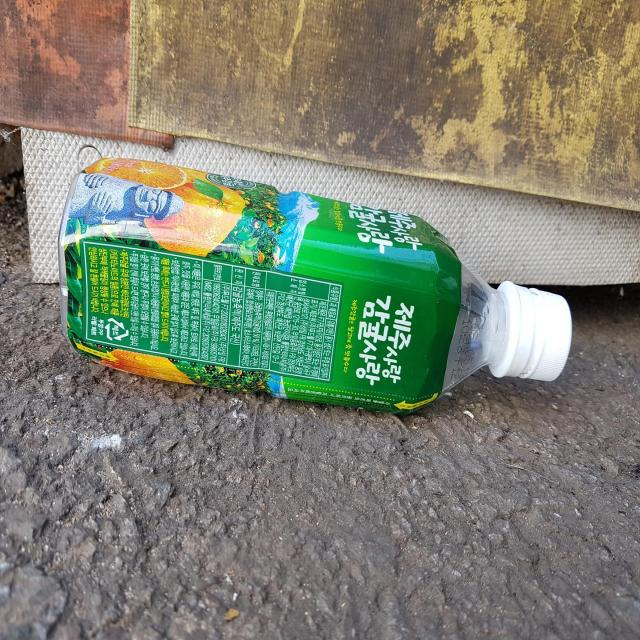plastic: (58, 157, 573, 413)
